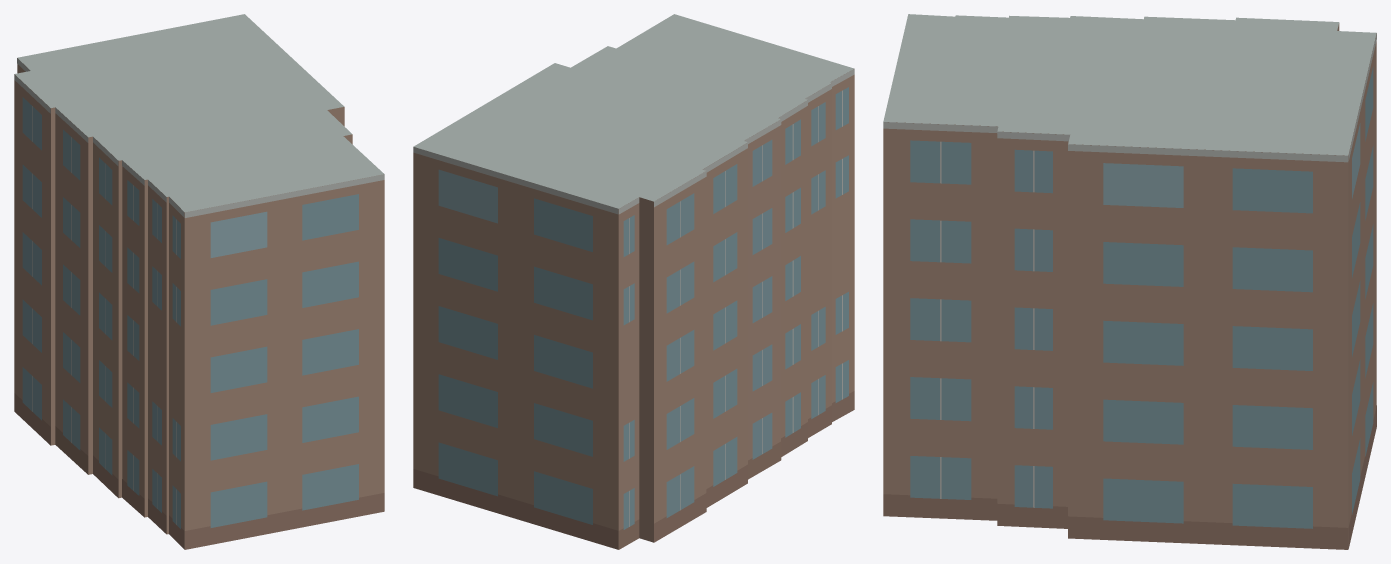
Rendered from survey-upis-32666318.glb.
The picture shows the model from 3 angles, left to right: view 1: azimuth 30°, elevation 25°; view 2: azimuth 150°, elevation 25°; view 3: azimuth 270°, elevation 25°; orthographic projection. The views are drawn at different scales.
Parts seen in each view (by area): view 1: survey-upis-32666318.tmp; view 2: survey-upis-32666318.tmp; view 3: survey-upis-32666318.tmp.
Part boxes in pixels (x1,y1,x2,y2): survey-upis-32666318.tmp: (14,14,384,549); survey-upis-32666318.tmp: (413,14,854,549); survey-upis-32666318.tmp: (883,14,1376,549).
Bounding box in the file's own units: 11.02 × 14.3 × 16.23.
